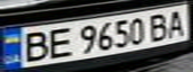0: (127, 15, 151, 45)
5: (112, 17, 133, 48)
6: (97, 20, 118, 52)
9: (75, 21, 100, 55)
A: (163, 7, 190, 38)
B: (15, 28, 51, 63), (145, 11, 172, 42)
E: (42, 25, 75, 60)
